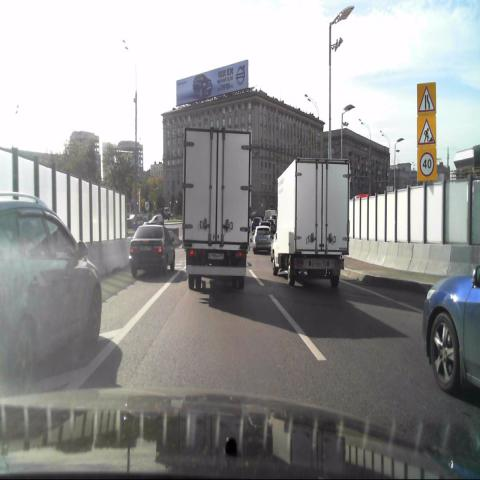1_20_2: (417, 82, 435, 113)
1_25: (417, 114, 435, 144)
